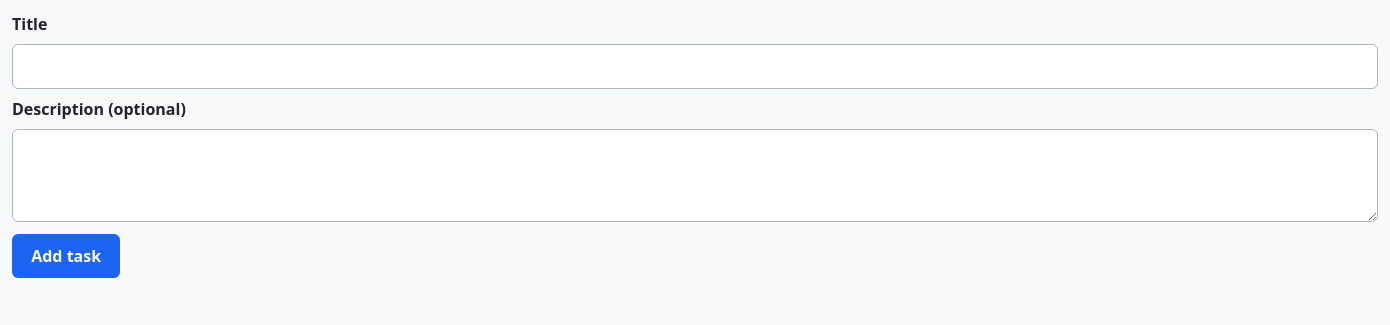
Test: TaskForm › validation in the browser › asks for a title and does not call the API when it is empty
The width and height of the screenshot is (1390, 325).
Click the button "Add task" at (66, 256), box [12,234,120,278]
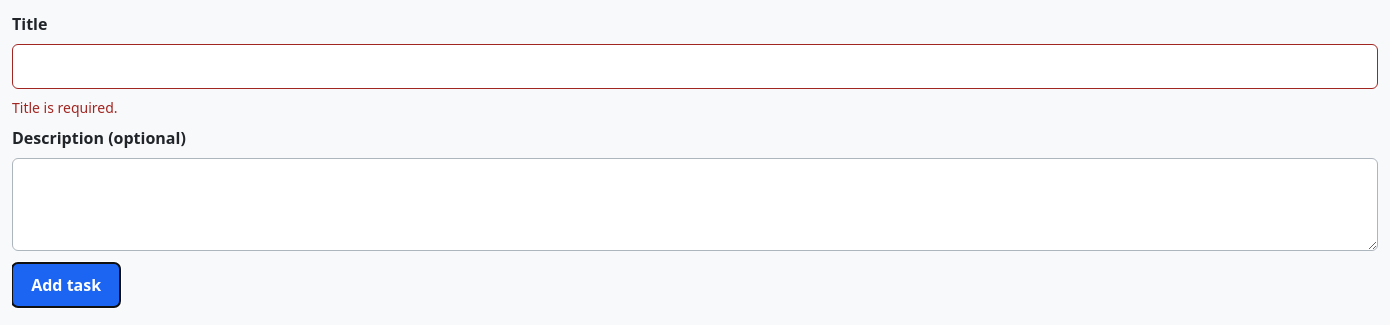
Check: the message reads "Title is required.", box [12,98,118,117]
